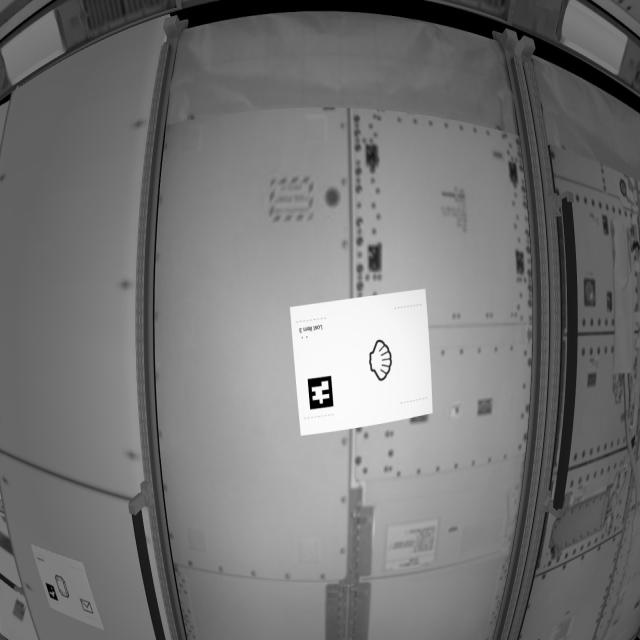emerald: (54, 573, 73, 604)
letter: (80, 596, 95, 618)
shell: (362, 335, 403, 391)
